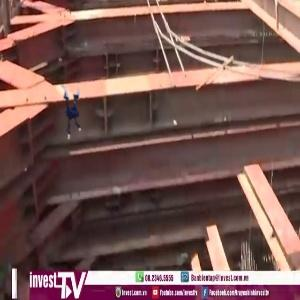drone: (40, 85, 95, 140)
